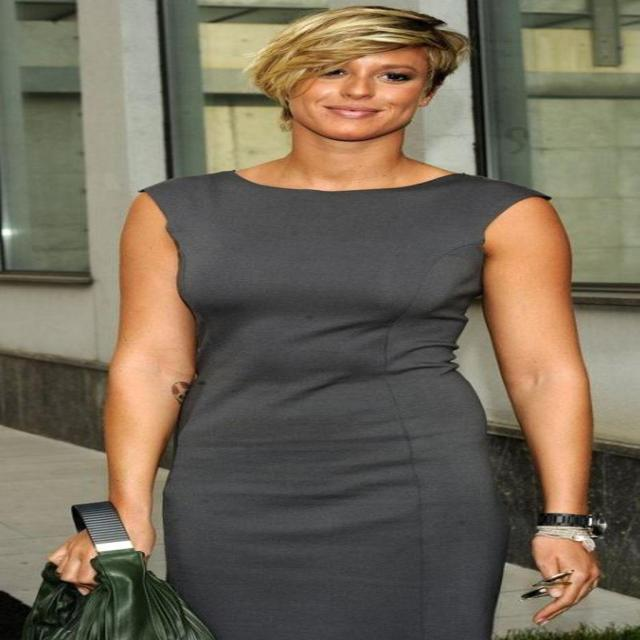Face: (276, 46, 432, 143)
